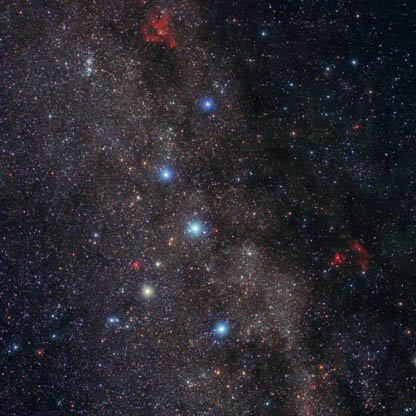Cassiopeia: (138, 253, 174, 306), (146, 157, 179, 194), (181, 211, 212, 244), (192, 95, 222, 127), (206, 312, 234, 341)
